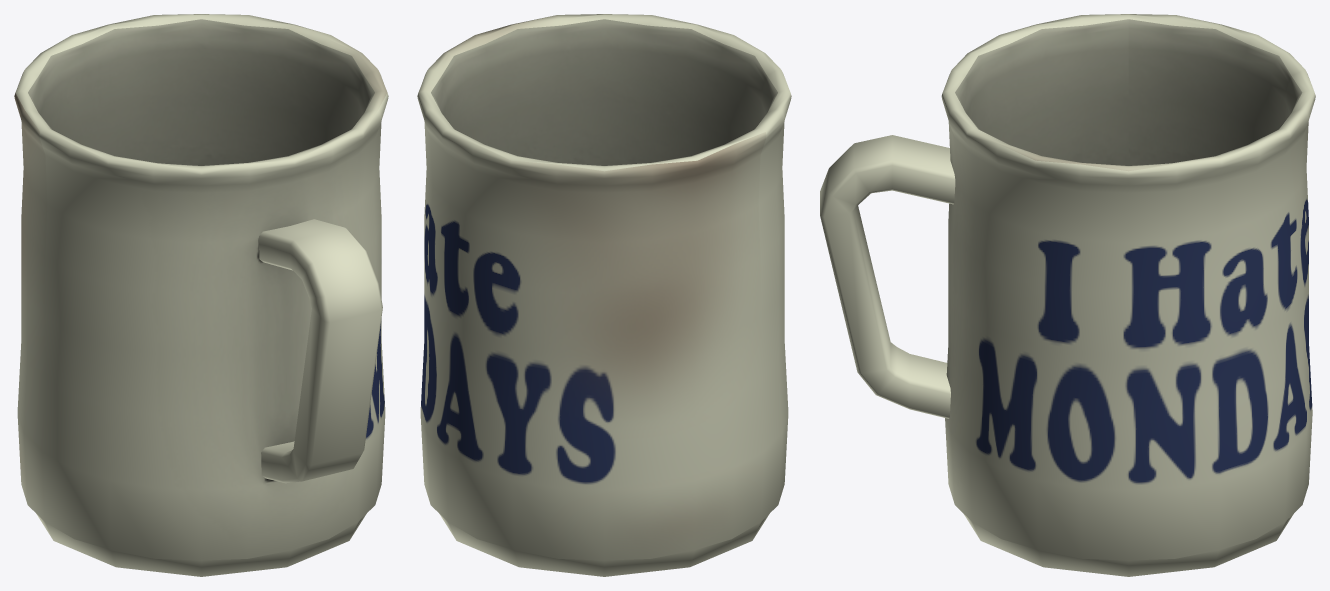
File: mug04.obj
The picture shows the model from 3 angles, left to right: view 1: azimuth 30°, elevation 25°; view 2: azimuth 150°, elevation 25°; view 3: azimuth 270°, elevation 25°; orthographic projection.
Visible parts, largest first — view 1: coffee_mug_04_model; view 2: coffee_mug_04_model; view 3: coffee_mug_04_model.
Boxes of the visible parts, box(x1,y1,x2,y2) form: coffee_mug_04_model: box(14, 14, 388, 576); coffee_mug_04_model: box(417, 14, 791, 576); coffee_mug_04_model: box(820, 14, 1315, 576).
Size of the model in its own units: 4.15 by 5.08 by 5.5.
